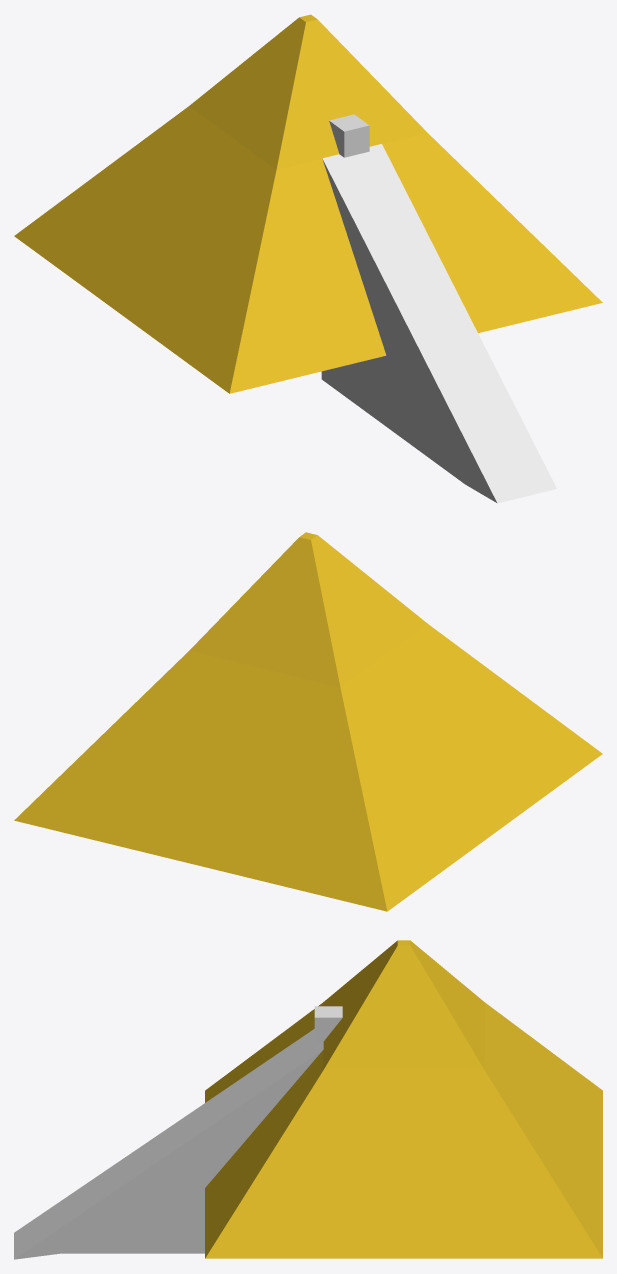
The picture shows the model from 3 angles, top to bottom: view 1: azimuth 30°, elevation 25°; view 2: azimuth 150°, elevation 25°; view 3: azimuth 270°, elevation 25°; orthographic projection. The views are drawn at different scales.
Parts seen in each view (by area): view 1: Cone, Cube.001, Cube; view 2: Cone; view 3: Cone, Cube.001, Cube.
Boxes of the visible parts, x1,y1,x2,y2 form: Cone: [14, 14, 602, 393]; Cube.001: [321, 144, 556, 503]; Cube: [329, 114, 369, 157]; Cone: [14, 532, 602, 911]; Cone: [205, 940, 602, 1258]; Cube.001: [14, 1029, 323, 1259]; Cube: [314, 1006, 342, 1041].
Size of the model in its own units: 78.3 by 65.12 by 116.
